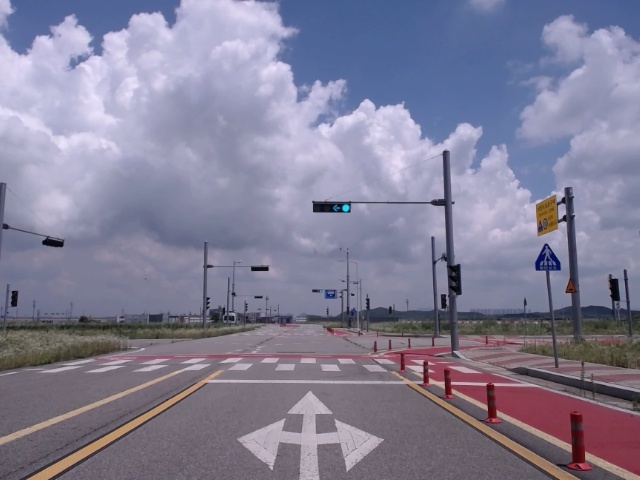all_green_4: (313, 200, 356, 213)
